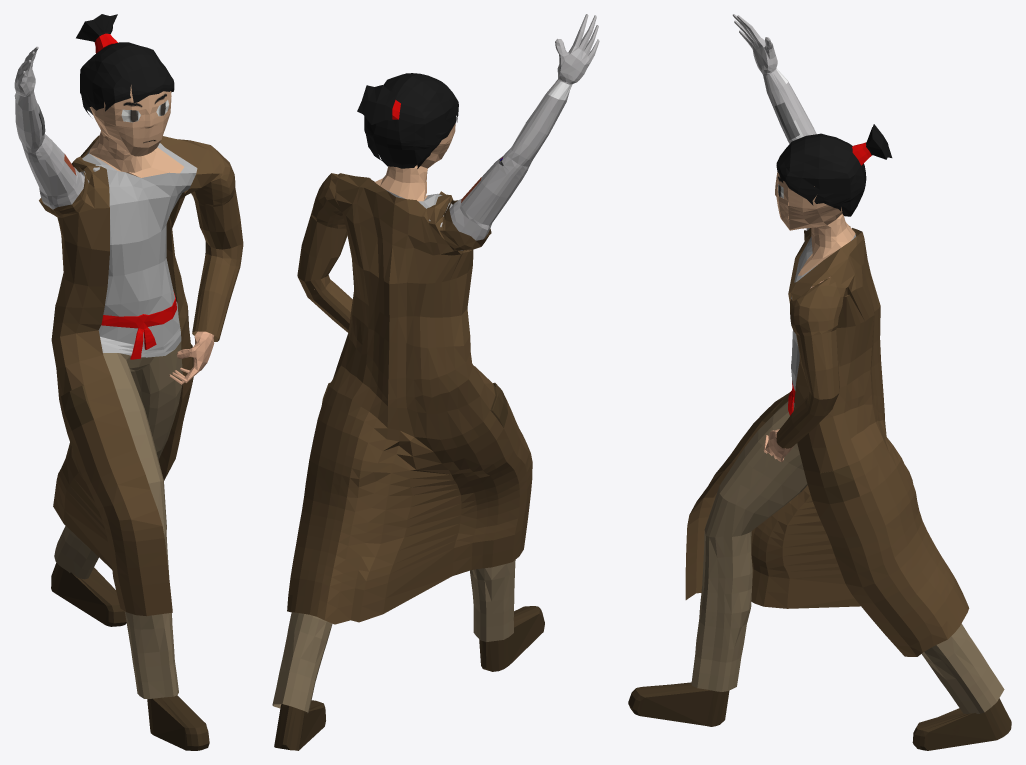
File: Special_Attack_000029.obj
The picture shows the model from 3 angles, left to right: view 1: azimuth 30°, elevation 25°; view 2: azimuth 150°, elevation 25°; view 3: azimuth 270°, elevation 25°; orthographic projection. The views are drawn at different scales.
Parts seen in each view (by area): view 1: Hair_Cube.004; view 2: Hair_Cube.004; view 3: Hair_Cube.004.
Boxes of the visible parts, x1=… form: Hair_Cube.004: x1=14, y1=14, x2=243, y2=750; Hair_Cube.004: x1=272, y1=14, x2=599, y2=750; Hair_Cube.004: x1=628, y1=14, x2=1011, y2=750.
Bounding box in the file's own units: 1.61 × 4.11 × 2.18.
